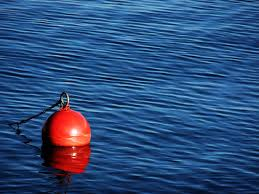buoy: (43, 109, 92, 148)
